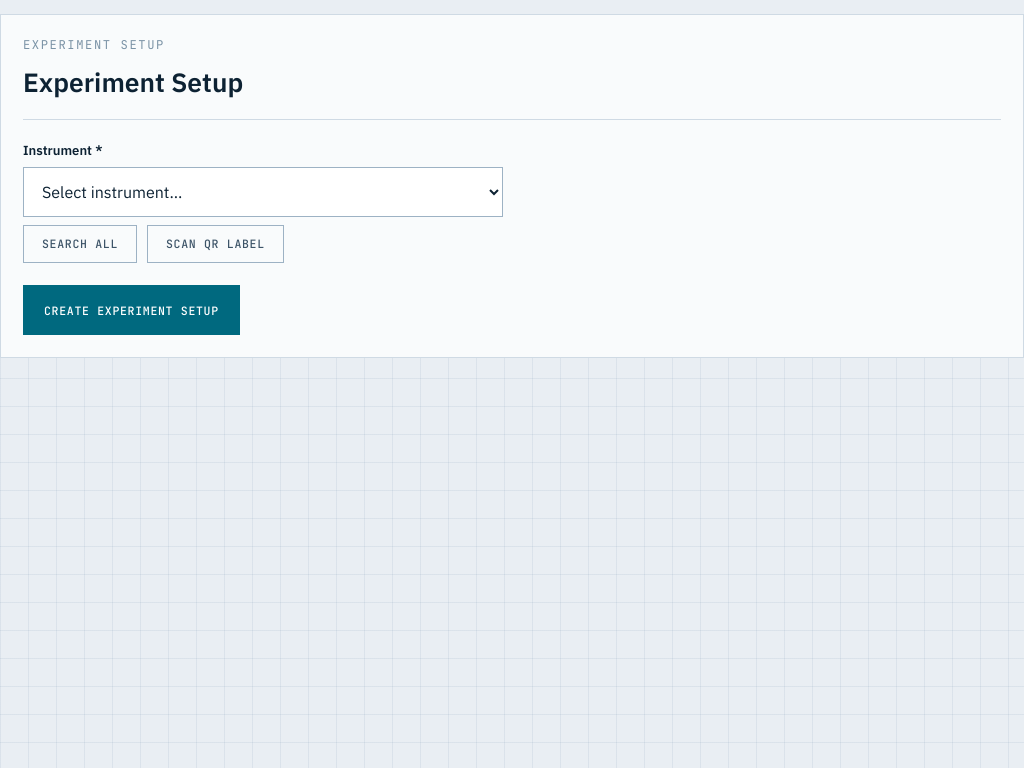
Test: Semantic where filters on type-ahead picks › rejects a search pick whose category violates the field's rule
expect the dropdown labelled "Instrument *" is shown: met, box [23,167,503,217]
Click the button "Search all" at (80,244), box [23,225,137,263]
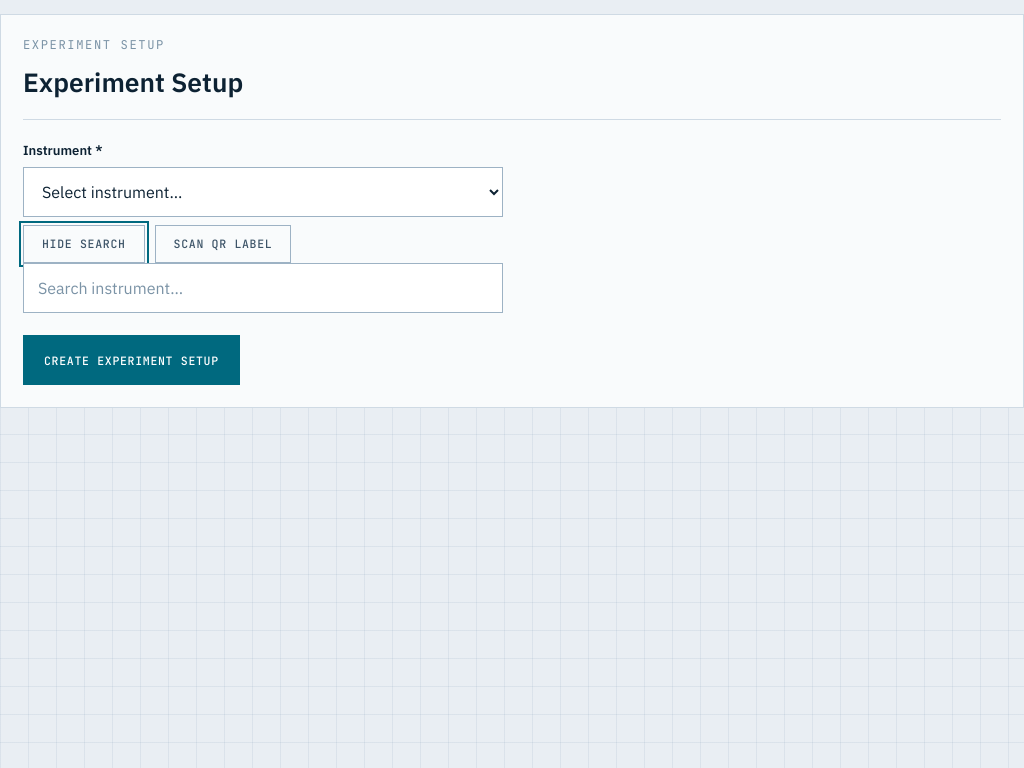
Type "AJA" into the search field labelled "Search instrument" at (263,288), box [23,263,503,313]
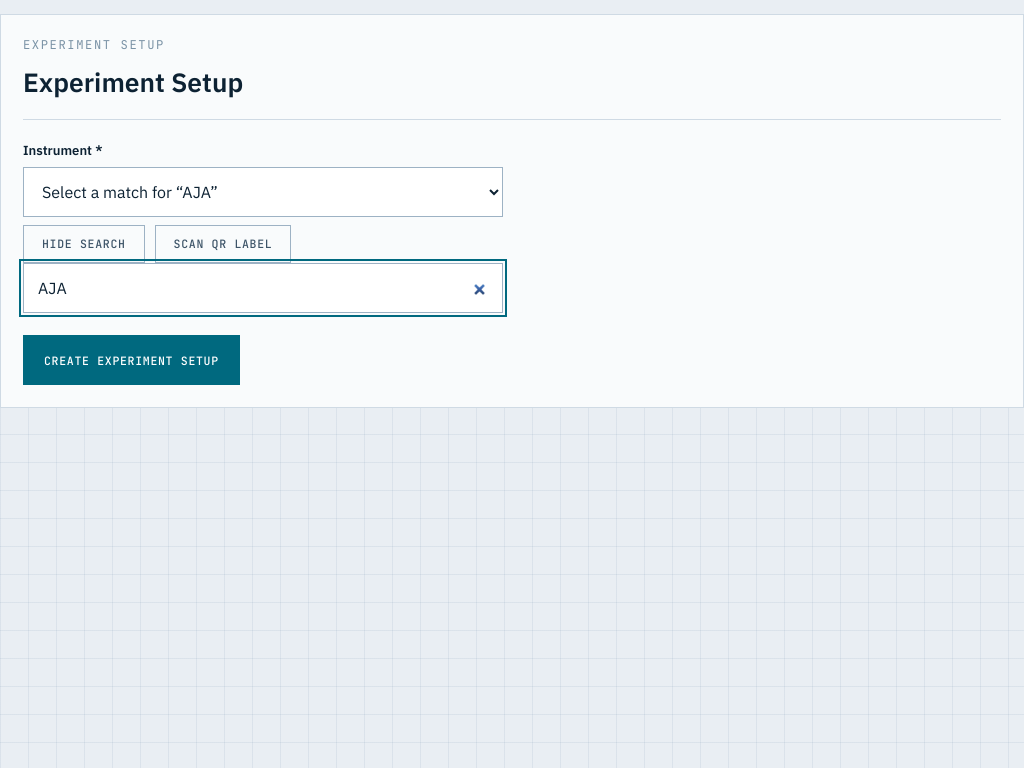
Select "AJA Sputter" in the dropdown labelled "Instrument *" at (263,192), box [23,167,503,217]
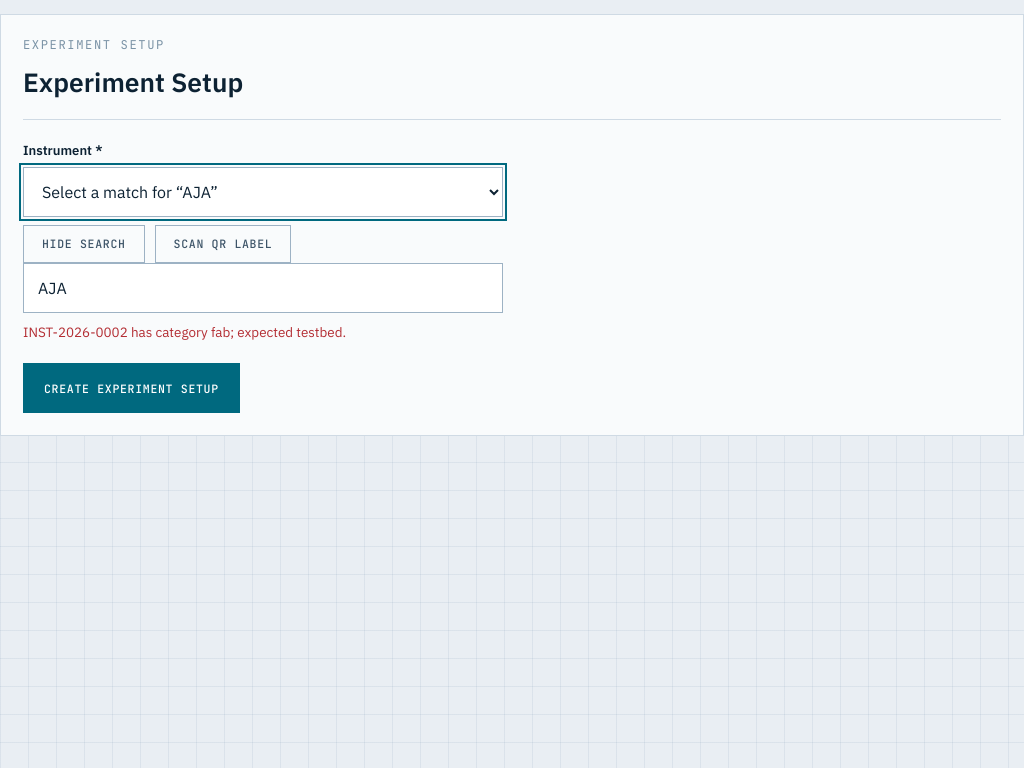
expect the text "INST-2026-0002 has category fab; expected testbed." is shown: met, box [23,323,346,341]
